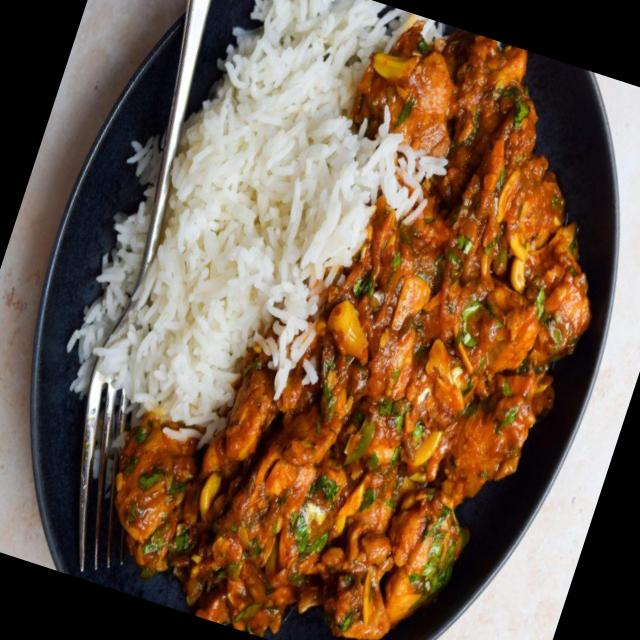chicken: (122, 0, 640, 640)
rice: (62, 0, 420, 451)
